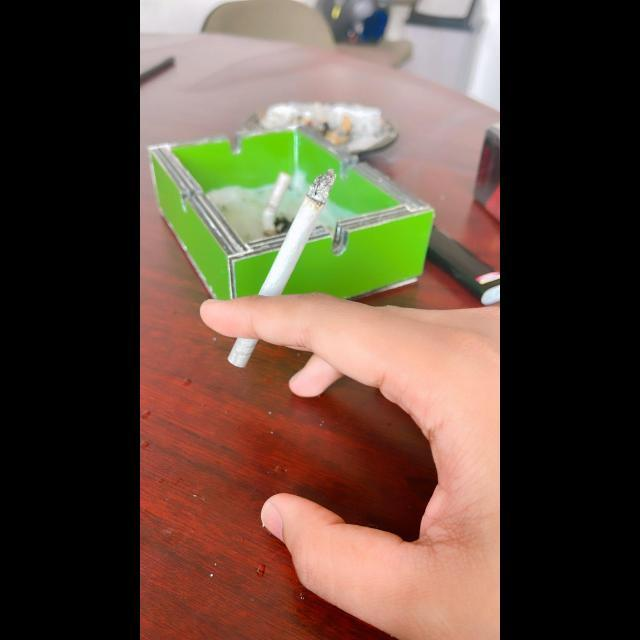rokok: (226, 161, 336, 375)
